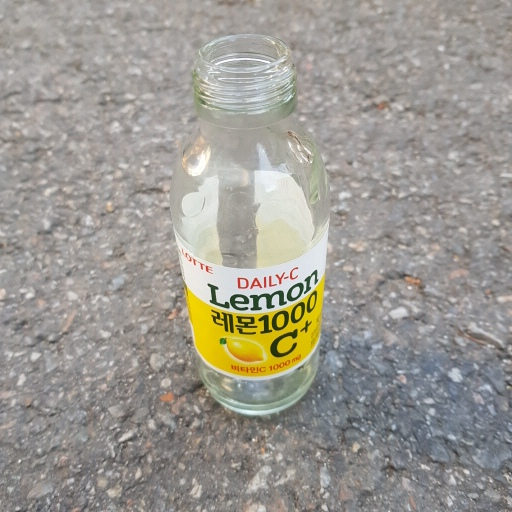Glass_4: (167, 34, 347, 414)
